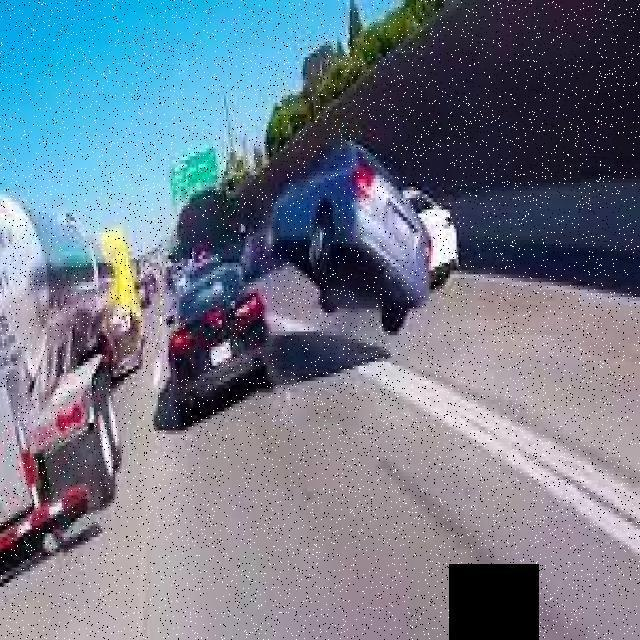multiple_accident: (127, 93, 469, 428)
